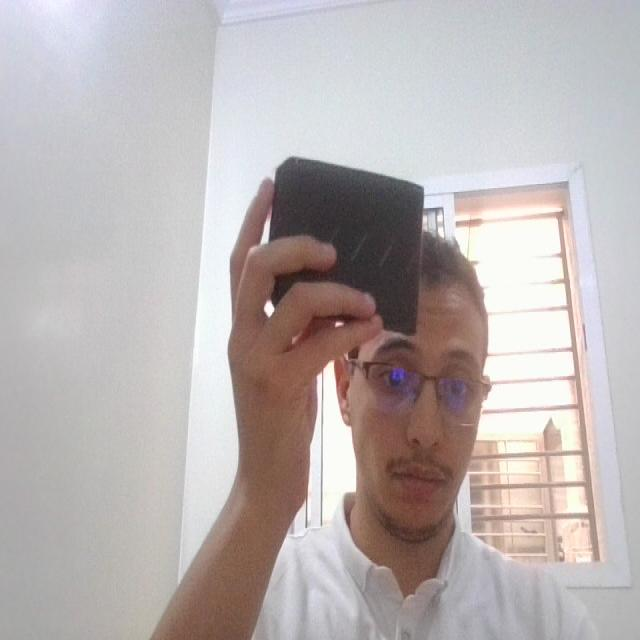wallet: (259, 143, 437, 345)
